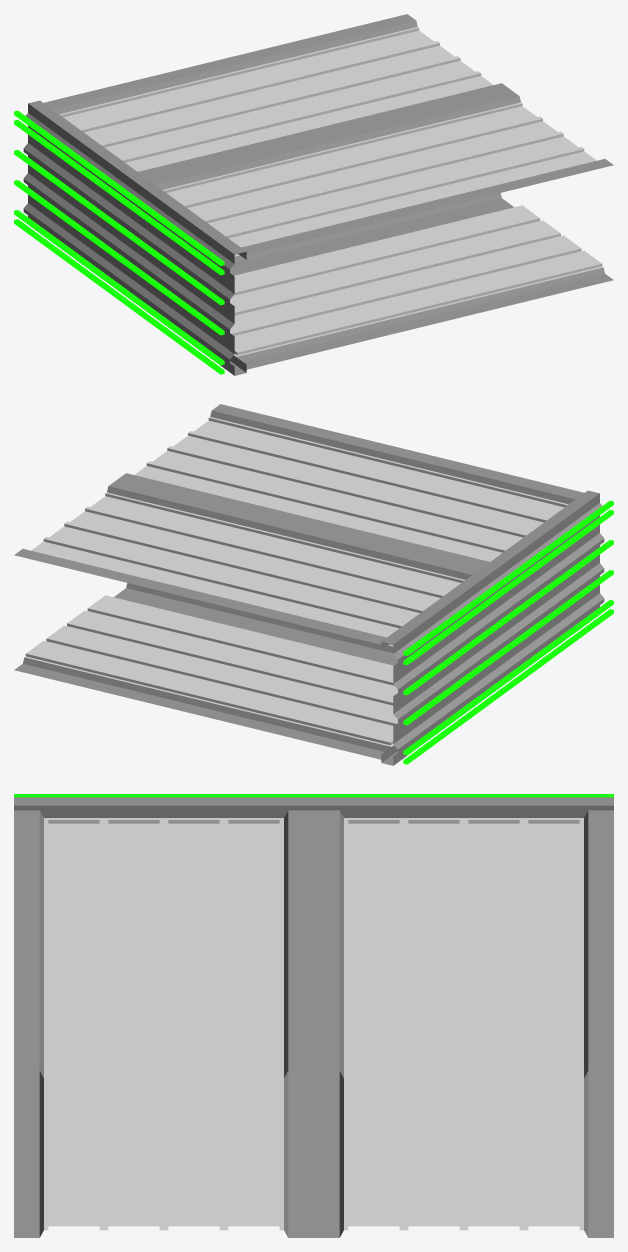
File: Door_Eaves_03_Middle.FBX
3 renders of one model, top to bottom at view 1: azimuth 30°, elevation 25°; view 2: azimuth 150°, elevation 25°; view 3: azimuth 270°, elevation 25°, orthographic. The views are drawn at different scales.
Visible parts, largest first — view 1: Door_Eaves_03_Middle_LOD0; view 2: Door_Eaves_03_Middle_LOD0; view 3: Door_Eaves_03_Middle_LOD0.
Part boxes in pixels (x1=…): Door_Eaves_03_Middle_LOD0: x1=14, y1=14, x2=613, y2=375; Door_Eaves_03_Middle_LOD0: x1=14, y1=404, x2=613, y2=765; Door_Eaves_03_Middle_LOD0: x1=14, y1=794, x2=613, y2=1237.
Size of what is drawn, in the model's own units: 83.24 by 24.54 by 75.69.
